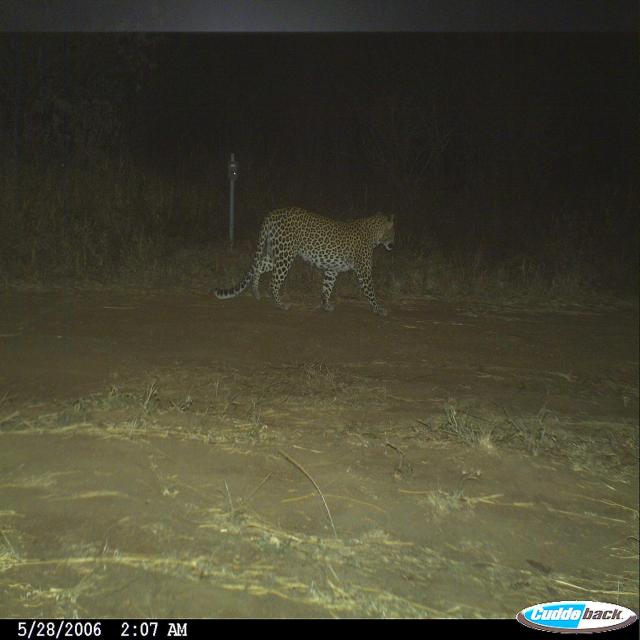Leopard: (205, 195, 414, 329)
